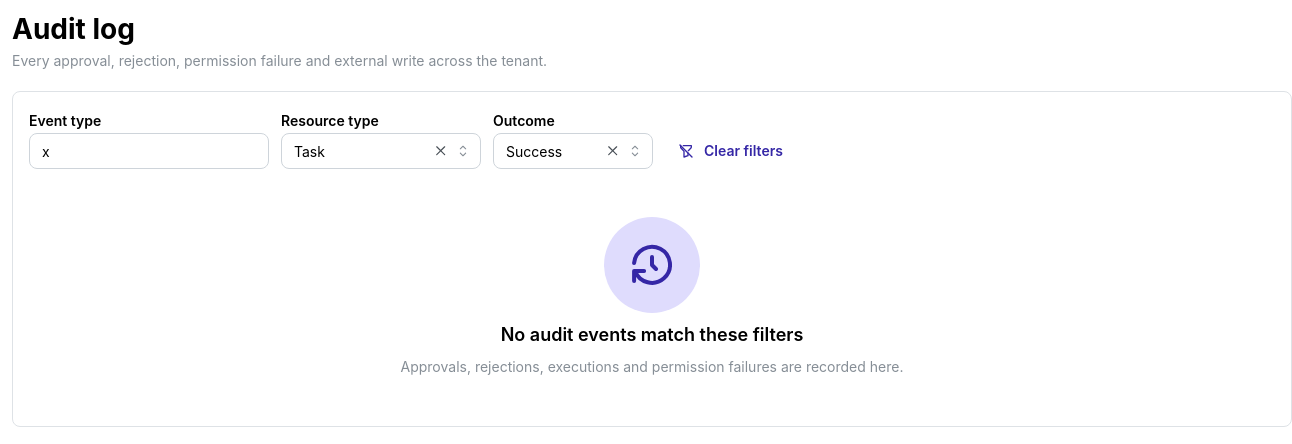
Test: <AuditLogPage> filters and pagination › clears every filter including the text box
The image size is (1292, 444).
What coordinates should you click on to do the following:
click the button "Clear filters"
I would click on:
 (733, 151)
Its box is left=665, top=133, right=802, bottom=169.
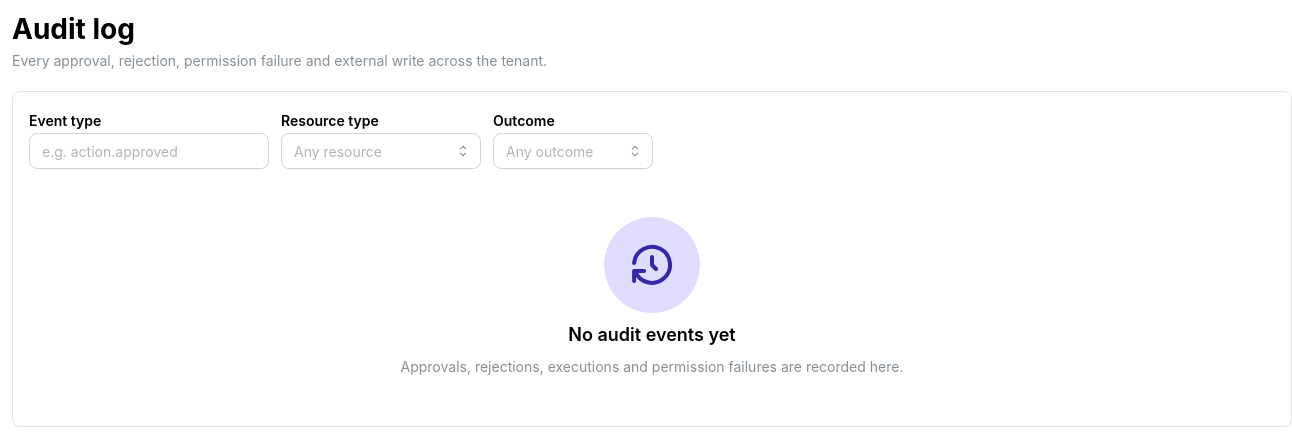
Result: the field labelled "Event type" is empty at left=29, top=133, right=269, bottom=169
Result: the button "Clear filters" is gone
